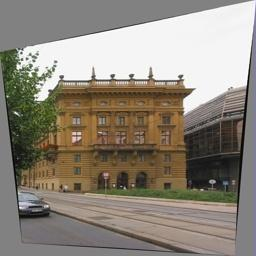building: (52, 65, 196, 191)
